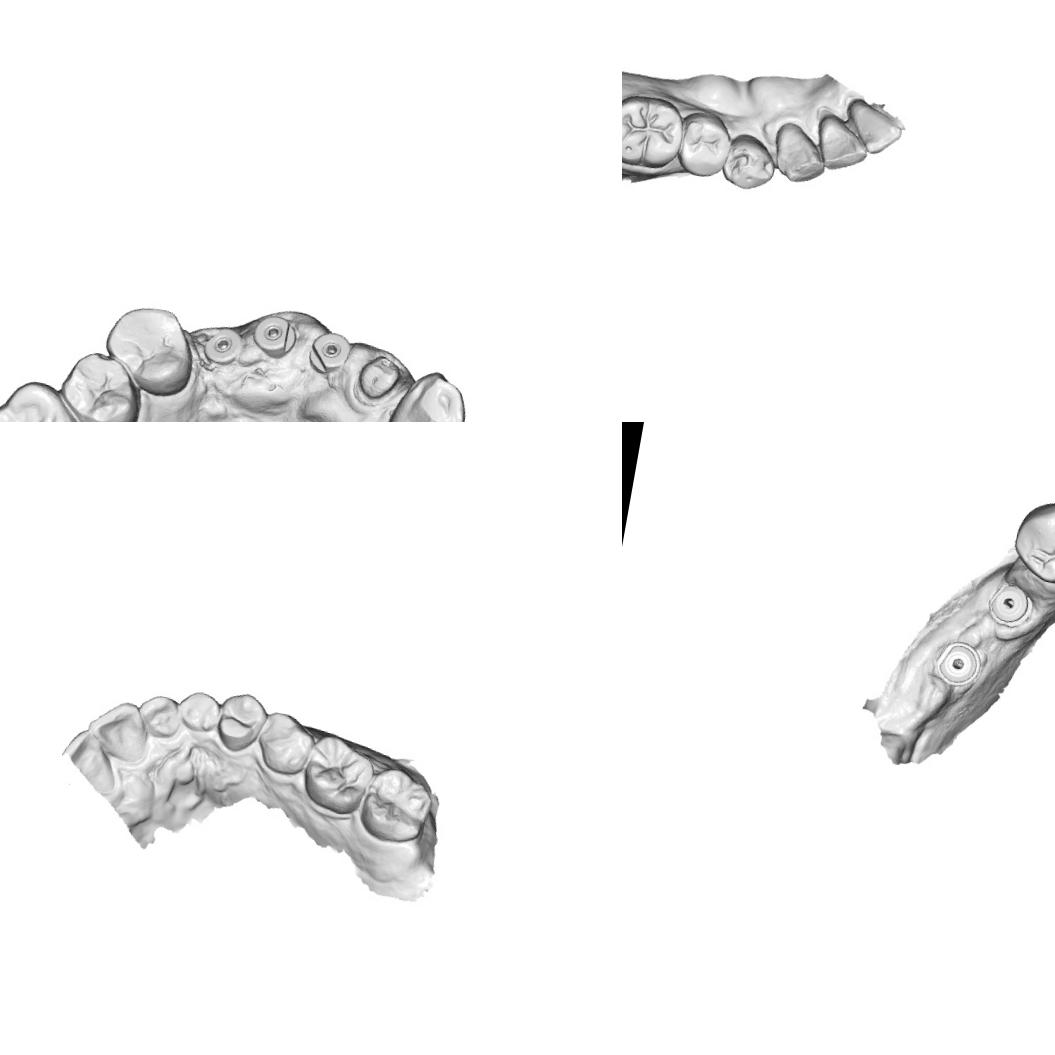canine: (378, 360, 475, 422), (767, 117, 832, 188), (172, 685, 222, 737)
crown: (349, 348, 407, 407)
implant: (244, 308, 306, 366), (931, 637, 987, 696), (982, 576, 1033, 630), (306, 325, 356, 374), (200, 323, 243, 364)
incisor: (81, 692, 154, 766), (56, 724, 124, 795), (839, 94, 908, 159), (810, 109, 874, 176), (132, 688, 182, 741)
molar: (354, 761, 439, 849), (298, 730, 380, 820), (622, 85, 690, 174), (0, 370, 101, 422)
premolar: (95, 297, 200, 401), (52, 345, 151, 422), (671, 106, 738, 182), (253, 708, 320, 780), (1009, 494, 1055, 591), (718, 128, 782, 195), (212, 688, 270, 758)
